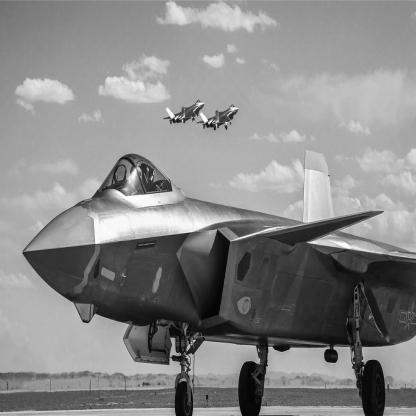J20: (22, 154, 416, 416), (197, 105, 240, 132), (164, 100, 206, 126)
